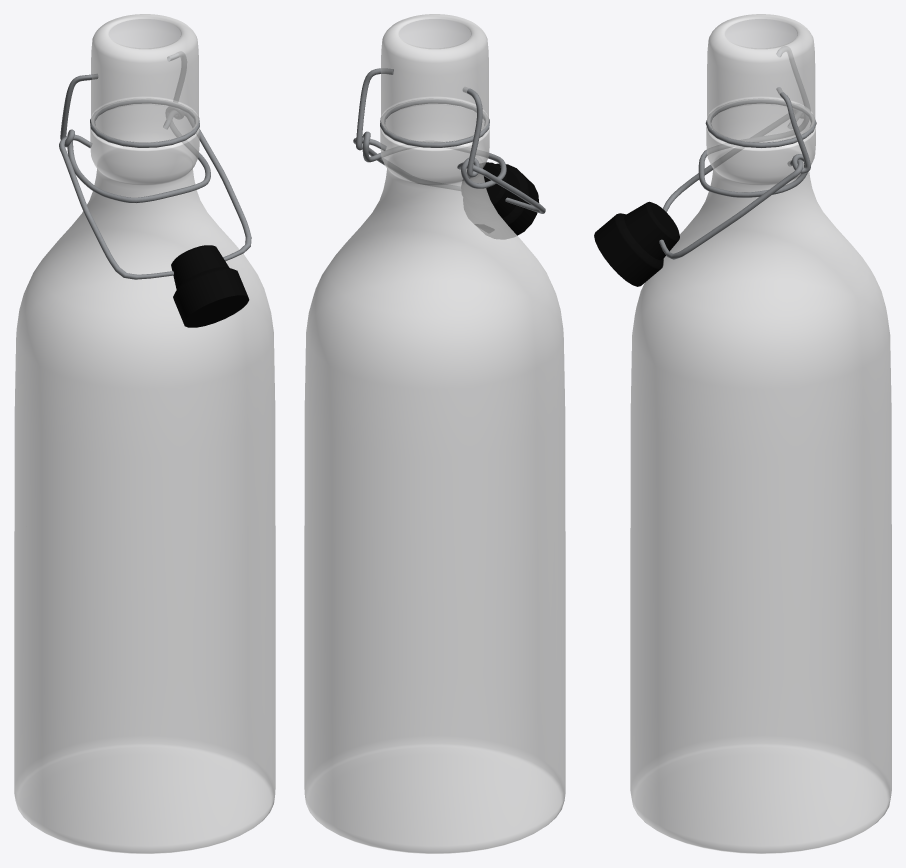
The model's file is bottle.glb.
3 renders of one model, left to right at view 1: azimuth 30°, elevation 25°; view 2: azimuth 150°, elevation 25°; view 3: azimuth 270°, elevation 25°, orthographic.
Parts seen in each view (by area): view 1: OBJ_Garrafa_Loft_Mari; view 2: OBJ_Garrafa_Loft_Mari; view 3: OBJ_Garrafa_Loft_Mari.
Boxes of the visible parts, x1,y1,x2,y2 form: OBJ_Garrafa_Loft_Mari: (14, 14, 275, 853); OBJ_Garrafa_Loft_Mari: (304, 14, 565, 853); OBJ_Garrafa_Loft_Mari: (594, 14, 891, 853).
Size of the model in its own units: 0.1159 by 0.3756 by 0.1319.
Materials: 2 (2 with a texture image).
